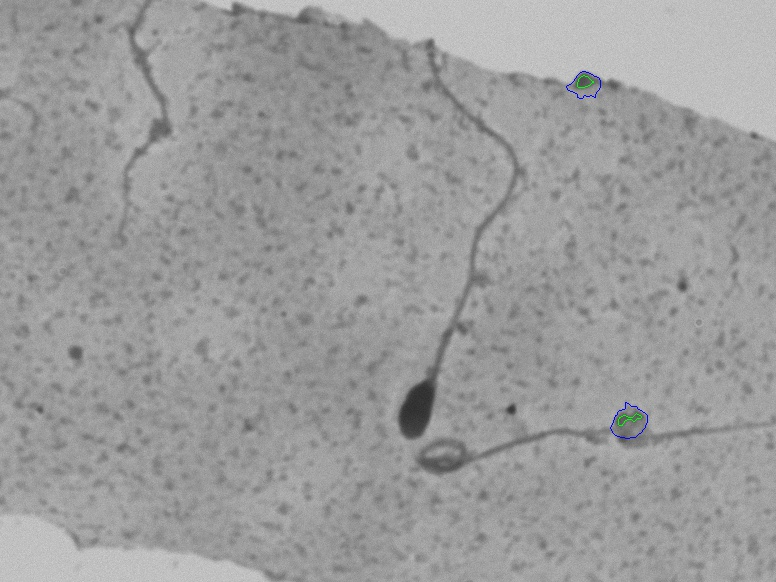Abnormal: (363, 64, 539, 447)
